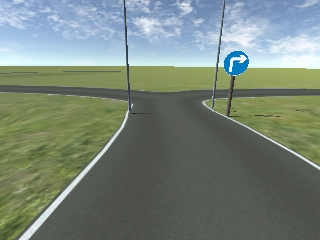right: (224, 50, 248, 75)
